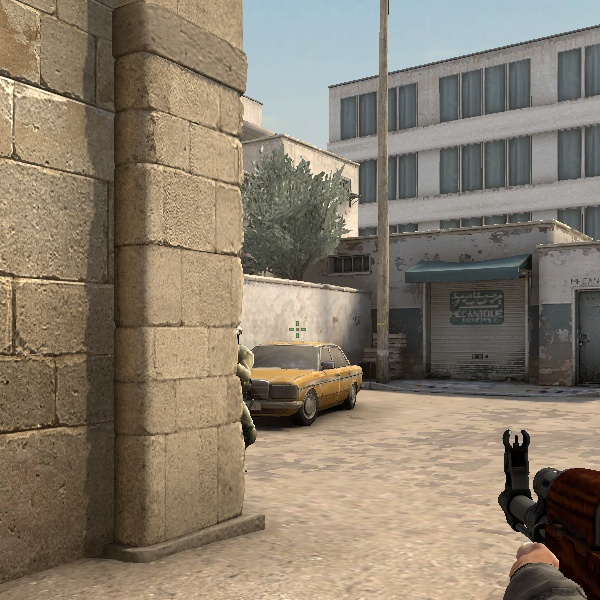ct_body: (238, 340, 258, 456)
